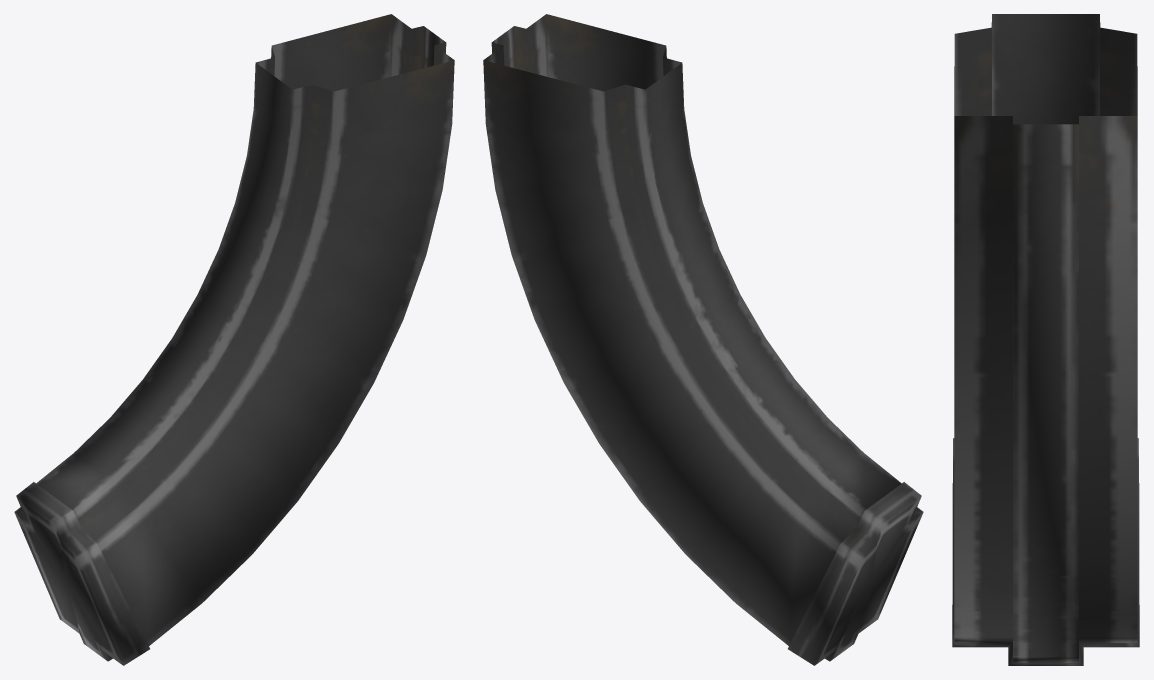
Rendered from Ak_Whit_Scope.fbx.
3 views of the same model, side by side, from view 1: azimuth 30°, elevation 25°; view 2: azimuth 150°, elevation 25°; view 3: azimuth 270°, elevation 25° (orthographic). The views are drawn at different scales.
Parts seen in each view (by area): view 1: handgrip_low.001; view 2: handgrip_low.001; view 3: handgrip_low.001.
Boxes of the visible parts, x1=… form: handgrip_low.001: x1=14, y1=14, x2=454, y2=665; handgrip_low.001: x1=483, y1=14, x2=923, y2=665; handgrip_low.001: x1=952, y1=14, x2=1139, y2=665.
Bounding box in the file's own units: 15.09 × 19.33 × 4.21.
